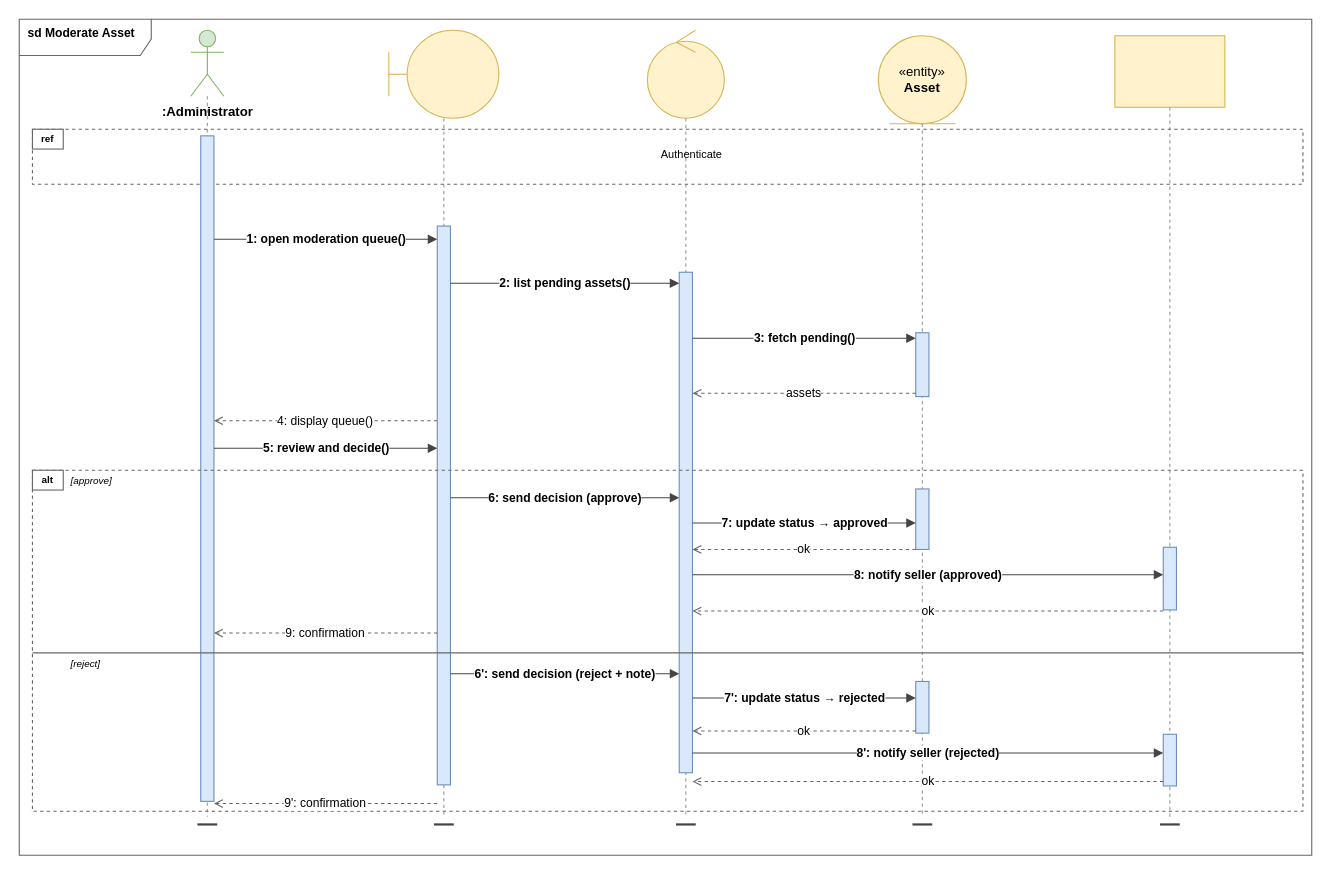
The diagram is 1331 pixels wide and 875 high, and some of its shapes have lost their labels. The centre of each missing label's shape, as x and y in pixels:
Admin Controller: point (685, 73)
«boundary» Moderation Interface: point (443, 73)
«service» Notification Service: point (1169, 71)
